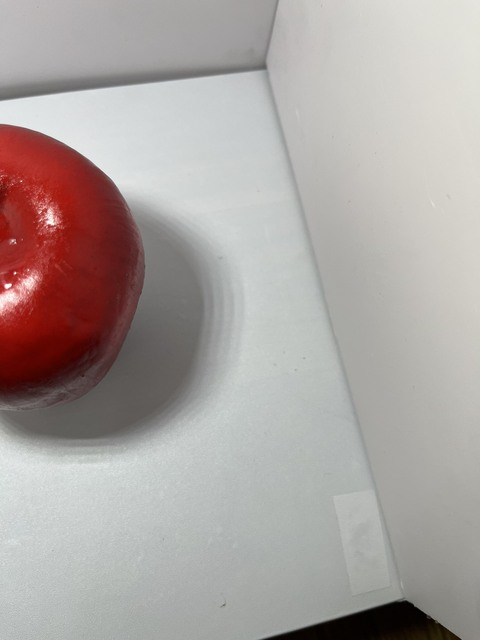Tao: (0, 120, 149, 419)
